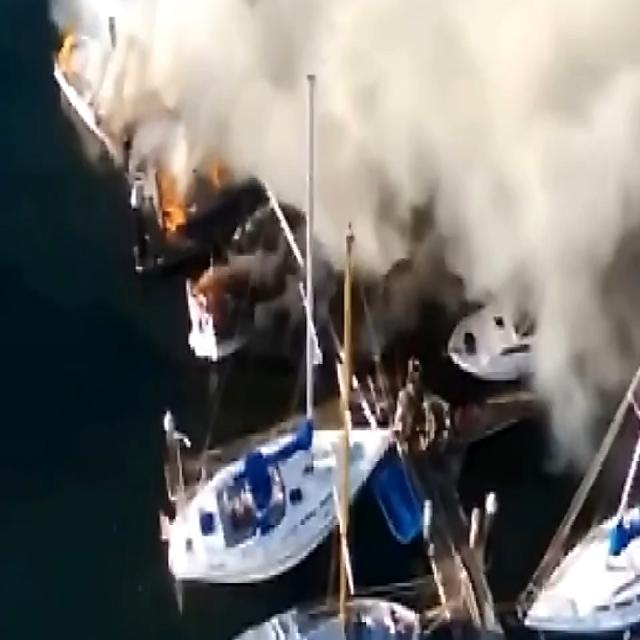smoke: (226, 0, 640, 173)
